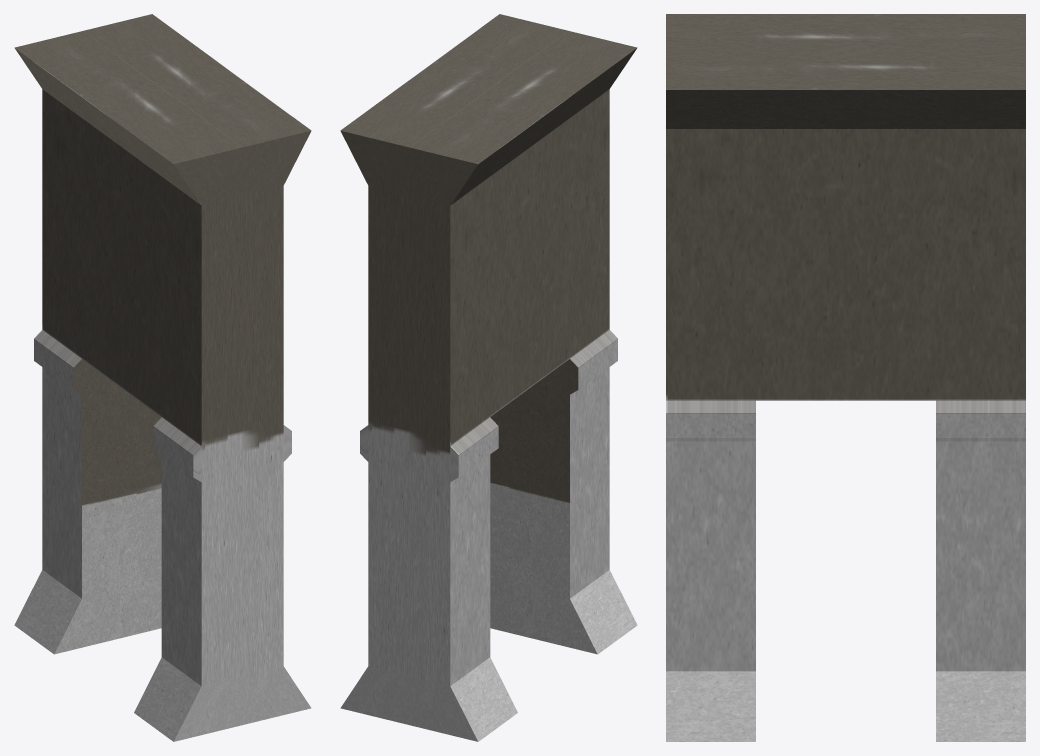
File: Lab_Door_Frame.fbx
3 views of the same model, side by side, from view 1: azimuth 30°, elevation 25°; view 2: azimuth 150°, elevation 25°; view 3: azimuth 270°, elevation 25° (orthographic). The views are drawn at different scales.
Visible parts, largest first — view 1: polySurface9; view 2: polySurface9; view 3: polySurface9.
Part boxes in pixels (x1=…): polySurface9: x1=14, y1=14, x2=311, y2=741; polySurface9: x1=340, y1=14, x2=637, y2=741; polySurface9: x1=666, y1=14, x2=1025, y2=741.
Size of the model in its own units: 1 by 4 by 2.
